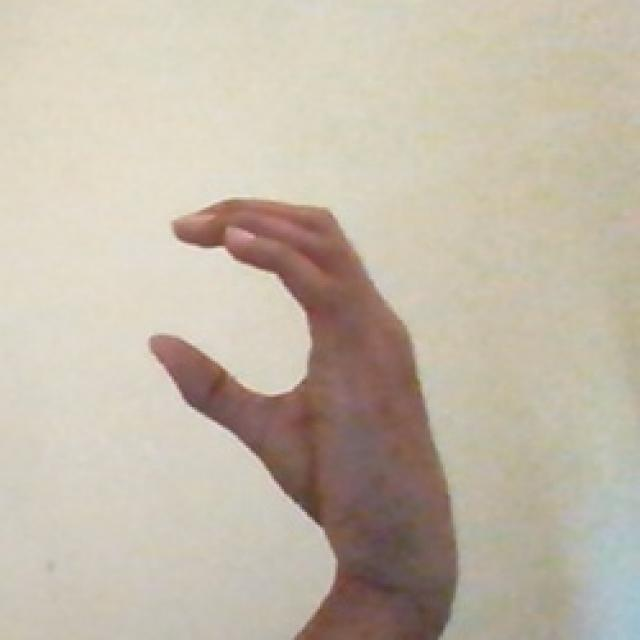Alphabet-C: (135, 182, 451, 591)
